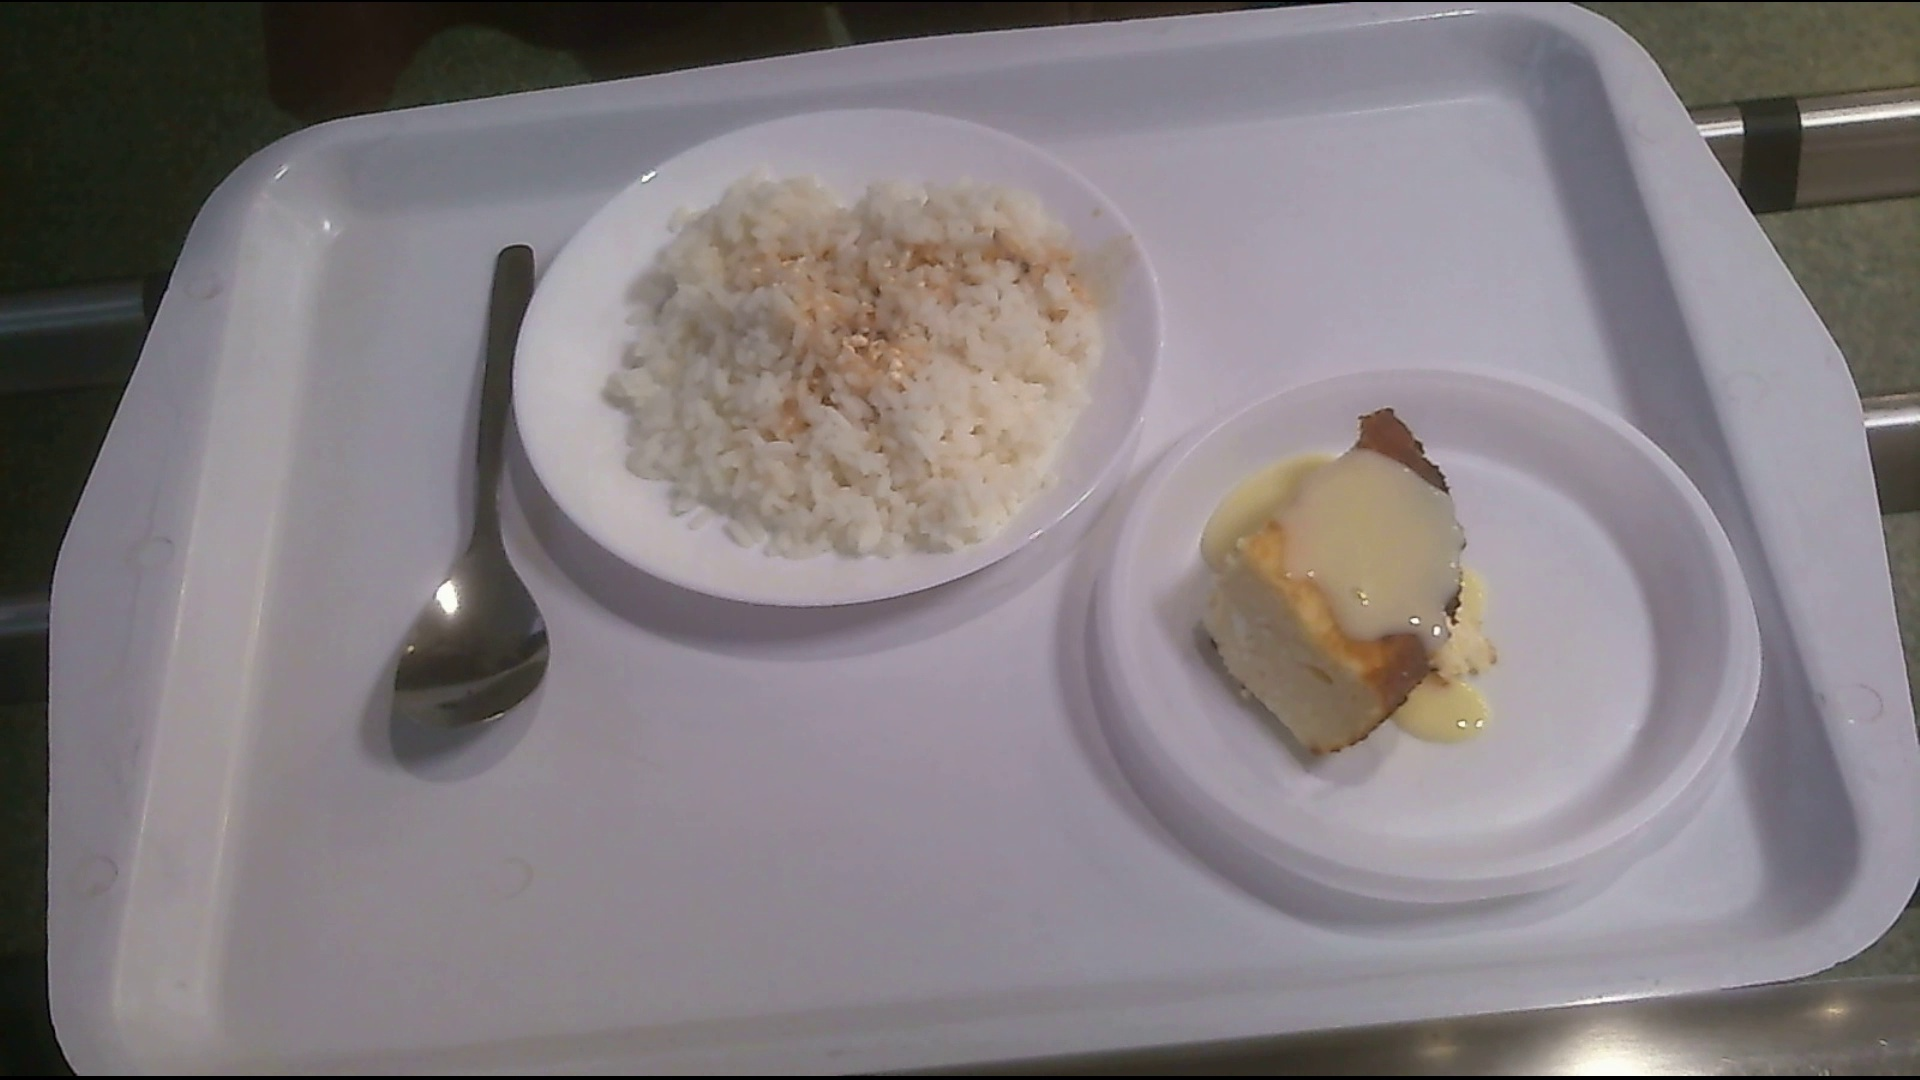cutlery: (400, 241, 563, 721)
plate: (1095, 364, 1758, 913), (513, 109, 1160, 607)
